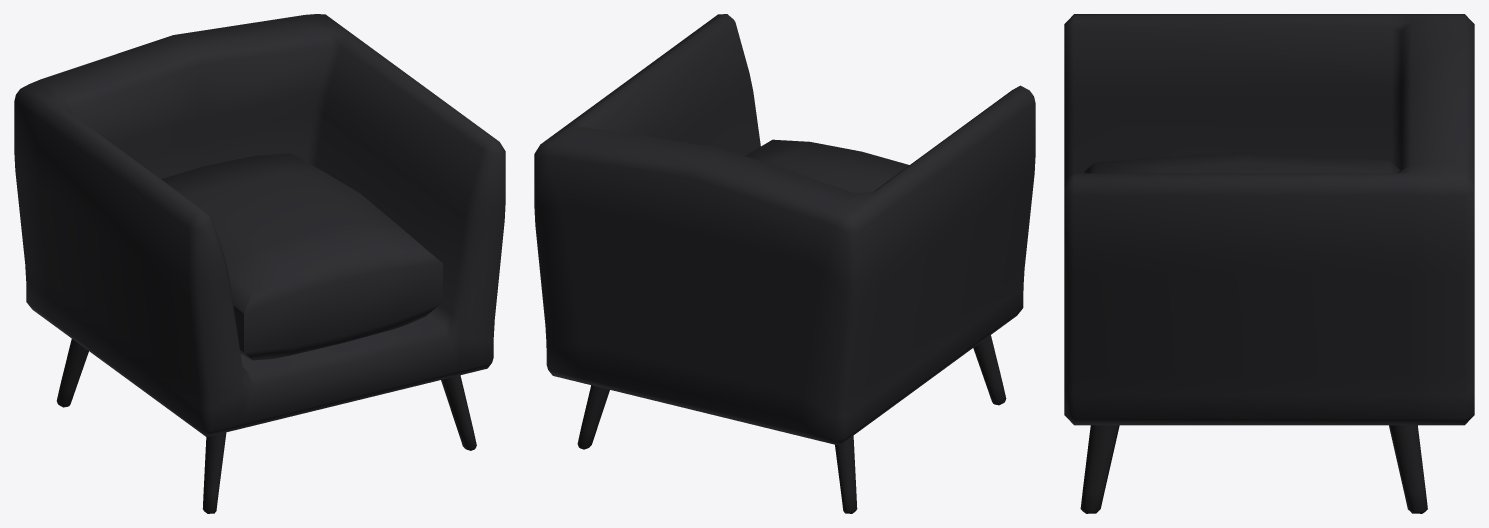
The model's file is pk_accent_black.glb.
3 renders of one model, left to right at view 1: azimuth 30°, elevation 25°; view 2: azimuth 150°, elevation 25°; view 3: azimuth 270°, elevation 25°, orthographic. The views are drawn at different scales.
Parts seen in each view (by area): view 1: pk_accent_black; view 2: pk_accent_black; view 3: pk_accent_black.
Boxes of the visible parts, <box> form: pk_accent_black: <box>14,14,505,513</box>; pk_accent_black: <box>534,14,1035,513</box>; pk_accent_black: <box>1064,14,1474,513</box>.
Size of the model in its own units: 0.82 by 0.8 by 0.82.
1 material, 1 textured.
